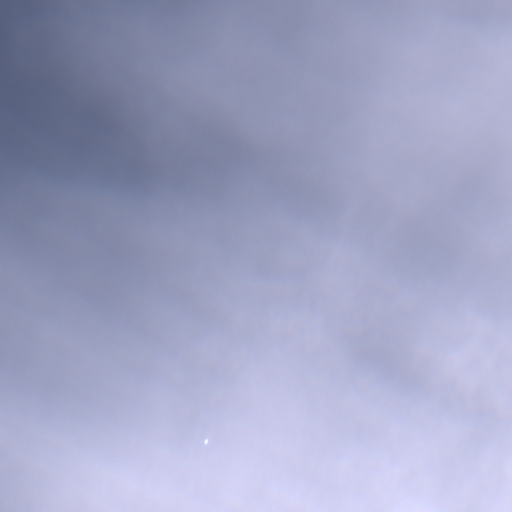Iceberg: (205, 439, 207, 444)
